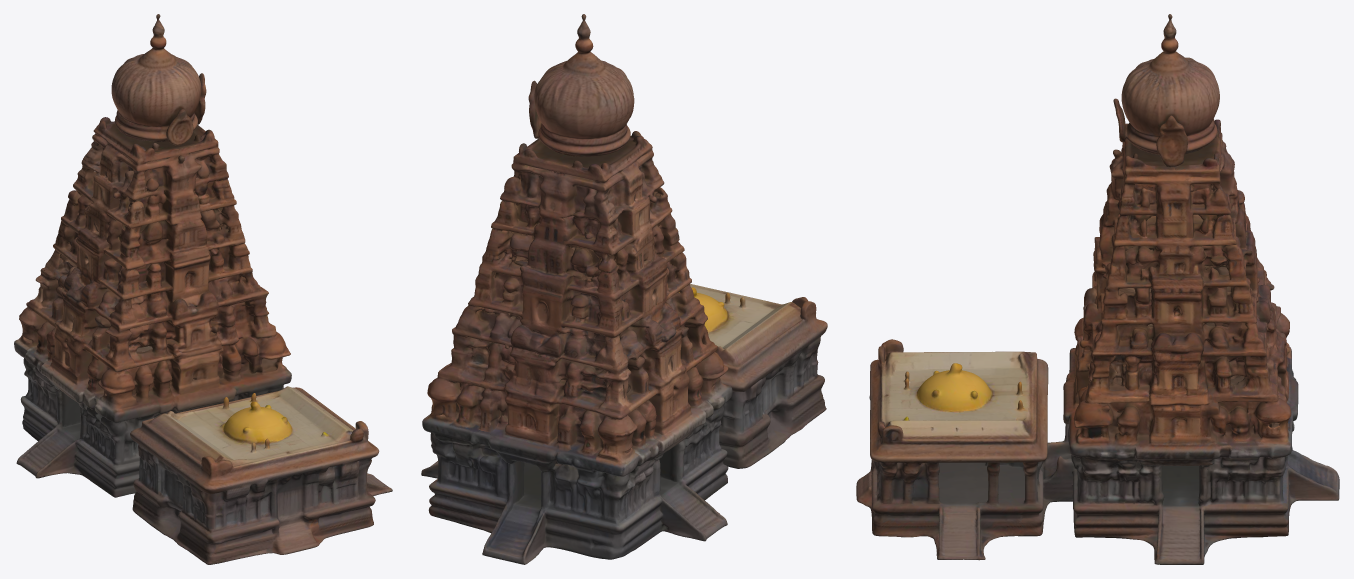
The model's file is brihadeeswara_temple.glb.
3 views of the same model, side by side, from view 1: azimuth 30°, elevation 25°; view 2: azimuth 150°, elevation 25°; view 3: azimuth 270°, elevation 25° (orthographic). The views are drawn at different scales.
Parts seen in each view (by area): view 1: tripo_node_b272677b-0fdf-4267-b602-e3abf0a72627; view 2: tripo_node_b272677b-0fdf-4267-b602-e3abf0a72627; view 3: tripo_node_b272677b-0fdf-4267-b602-e3abf0a72627.
Part boxes in pixels (left/top/right/bottom): tripo_node_b272677b-0fdf-4267-b602-e3abf0a72627: left=14, top=14, right=392, bottom=564; tripo_node_b272677b-0fdf-4267-b602-e3abf0a72627: left=421, top=14, right=827, bottom=564; tripo_node_b272677b-0fdf-4267-b602-e3abf0a72627: left=856, top=14, right=1339, bottom=564.
Bounding box in the file's own units: 0.618 × 1 × 0.9112.
Materials: 1 (1 with a texture image).
